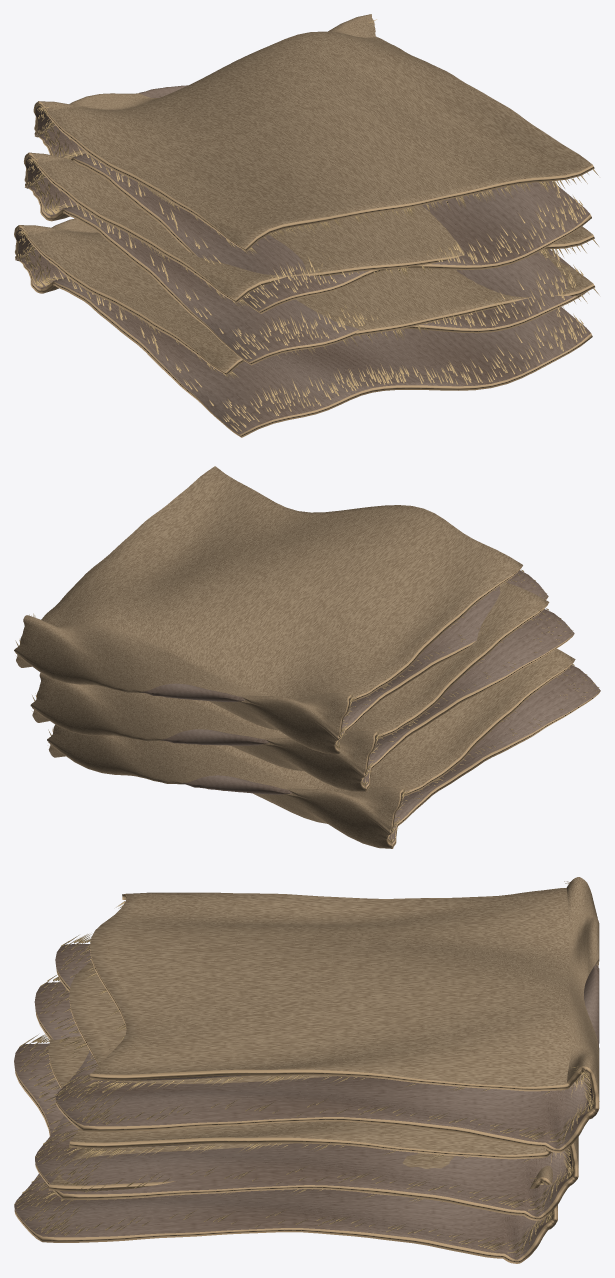
The model's file is tapir_leather.glb.
3 views of the same model, one above another, from view 1: azimuth 30°, elevation 25°; view 2: azimuth 150°, elevation 25°; view 3: azimuth 270°, elevation 25° (orthographic). The views are drawn at different scales.
Parts seen in each view (by area): view 1: tapir_leather rough suede reverse, tapir_leather supple outer surface, tapir_leather exposed cut fibers, Matte tapered natural hair (×3); view 2: tapir_leather rough suede reverse, tapir_leather supple outer surface, tapir_leather exposed cut fibers, Matte tapered natural hair; view 3: tapir_leather rough suede reverse, tapir_leather supple outer surface, tapir_leather exposed cut fibers, Matte tapered natural hair (×3).
Boxes of the visible parts, <box> form: tapir_leather rough suede reverse: <box>20,14,593,371</box>; tapir_leather supple outer surface: <box>16,85,590,434</box>; tapir_leather exposed cut fibers: <box>14,101,594,437</box>; Matte tapered natural hair (×3): <box>16,19,599,431</box>; tapir_leather rough suede reverse: <box>14,466,575,848</box>; tapir_leather supple outer surface: <box>141,570,600,844</box>; tapir_leather exposed cut fibers: <box>15,566,600,848</box>; Matte tapered natural hair: <box>32,608,573,785</box>; tapir_leather rough suede reverse: <box>48,877,599,1229</box>; tapir_leather supple outer surface: <box>14,899,599,1259</box>; tapir_leather exposed cut fibers: <box>14,894,599,1263</box>; Matte tapered natural hair (×3): <box>14,881,599,1256</box>.
Size of the model in its own units: 0.4705 by 0.2144 by 0.5113.
Materials: 6 (2 with a texture image).
